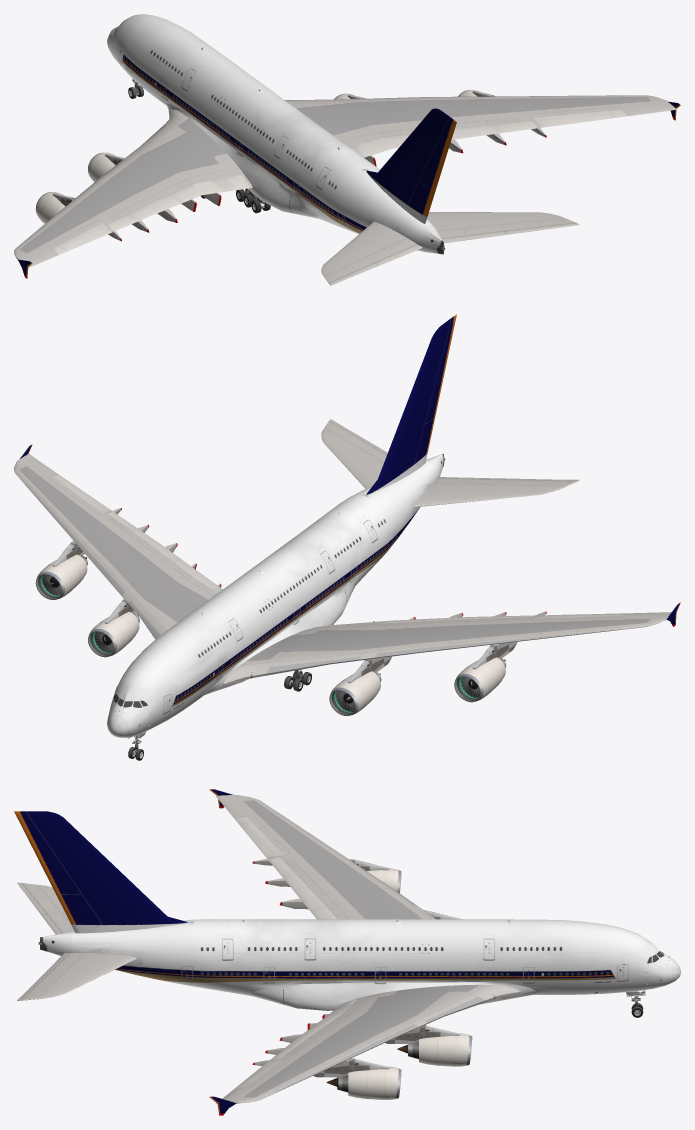
The model's file is airbus_a380.glb.
3 renders of one model, top to bottom at view 1: azimuth 30°, elevation 25°; view 2: azimuth 150°, elevation 25°; view 3: azimuth 270°, elevation 25°, orthographic. The views are drawn at different scales.
Visible parts, largest first — view 1: Object_5; view 2: Object_5; view 3: Object_5.
Boxes of the visible parts, box(x1,y1,x2,y2) form: Object_5: box(14, 14, 680, 285); Object_5: box(14, 314, 680, 760); Object_5: box(14, 789, 680, 1115).
Size of the model in its own units: 79.68 by 24.69 by 73.
Materials: 1 (1 with a texture image).
